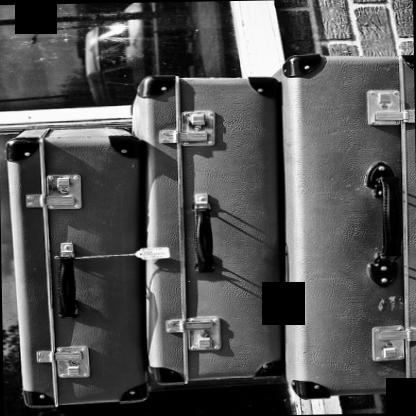suitcase: (270, 49, 416, 399), (128, 73, 282, 383), (6, 125, 148, 408)
